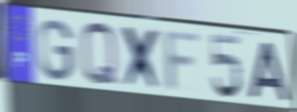5: (209, 32, 244, 101)
A: (248, 40, 293, 104)
F: (162, 29, 204, 96)
G: (36, 18, 75, 83)
Q: (78, 20, 120, 89)
X: (120, 23, 164, 95)
